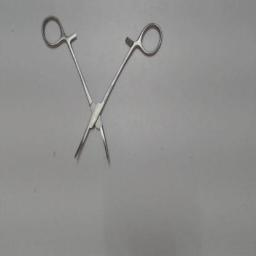Crile Artery Forceps: (31, 12, 165, 174)
